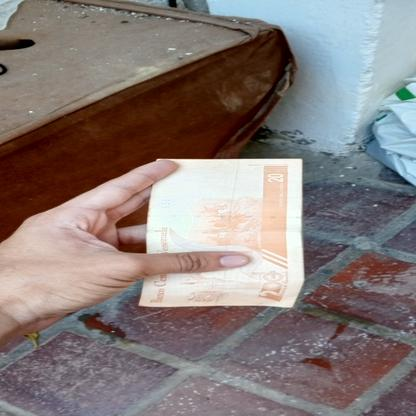twenty-back-vef: (137, 158, 304, 308)
